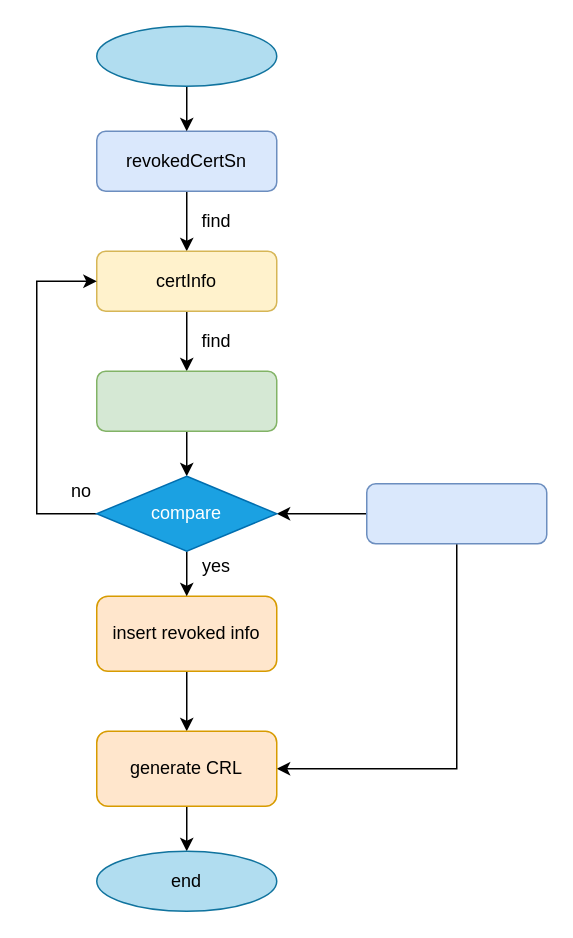
Image size: 573x938. Some labels were removed from this diagram. Here are the shapes that lost their labels. From the top down, the centre of each, then its label:
At pixel 186 55: "start".
At pixel 186 400: "issuerSn".
At pixel 456 513: "issuerCertSn".
